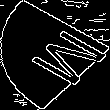M_SE: (7, 21, 103, 89)
